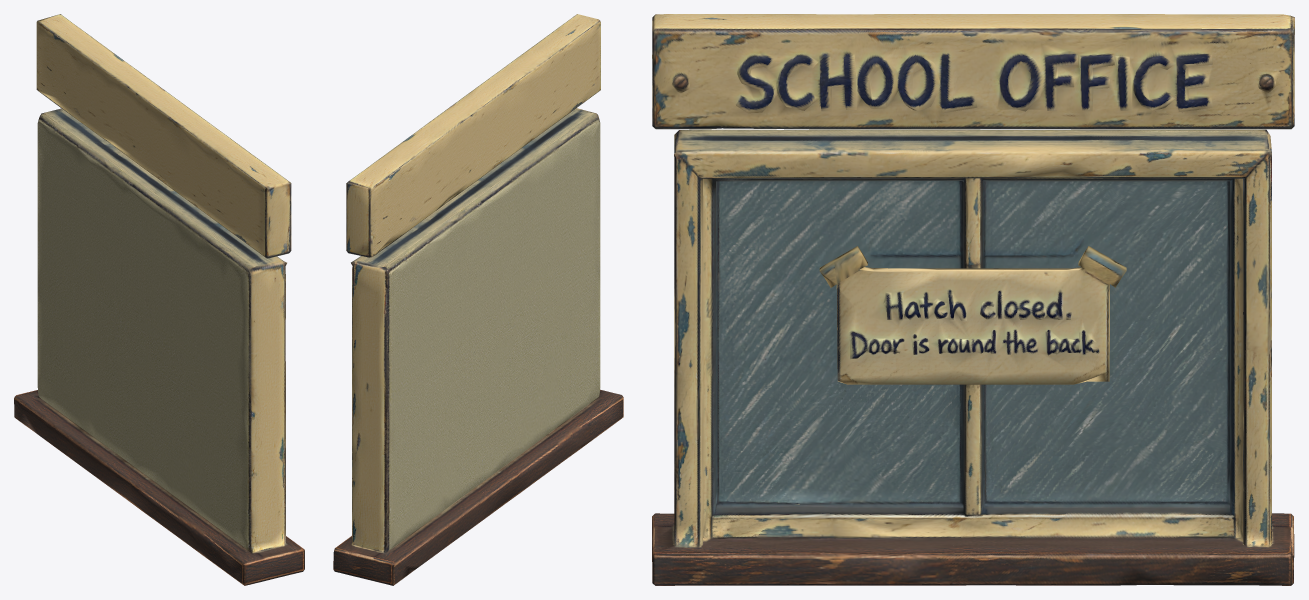
Rendered from OfficeServingHatch.fbx.
3 renders of one model, left to right at view 1: azimuth 30°, elevation 25°; view 2: azimuth 150°, elevation 25°; view 3: azimuth 270°, elevation 25°, orthographic. The views are drawn at different scales.
Visible parts, largest first — view 1: tripo_node_5eb9d581-820c-45ad-9fa1-4dcc438f0997; view 2: tripo_node_5eb9d581-820c-45ad-9fa1-4dcc438f0997; view 3: tripo_node_5eb9d581-820c-45ad-9fa1-4dcc438f0997.
Boxes of the visible parts, bbox=[...] form: tripo_node_5eb9d581-820c-45ad-9fa1-4dcc438f0997: bbox=[14, 14, 304, 585]; tripo_node_5eb9d581-820c-45ad-9fa1-4dcc438f0997: bbox=[333, 14, 623, 585]; tripo_node_5eb9d581-820c-45ad-9fa1-4dcc438f0997: bbox=[652, 14, 1294, 585].
Size of the model in its own units: 15.58 by 94.06 by 100.
Materials: 1 (1 with a texture image).
